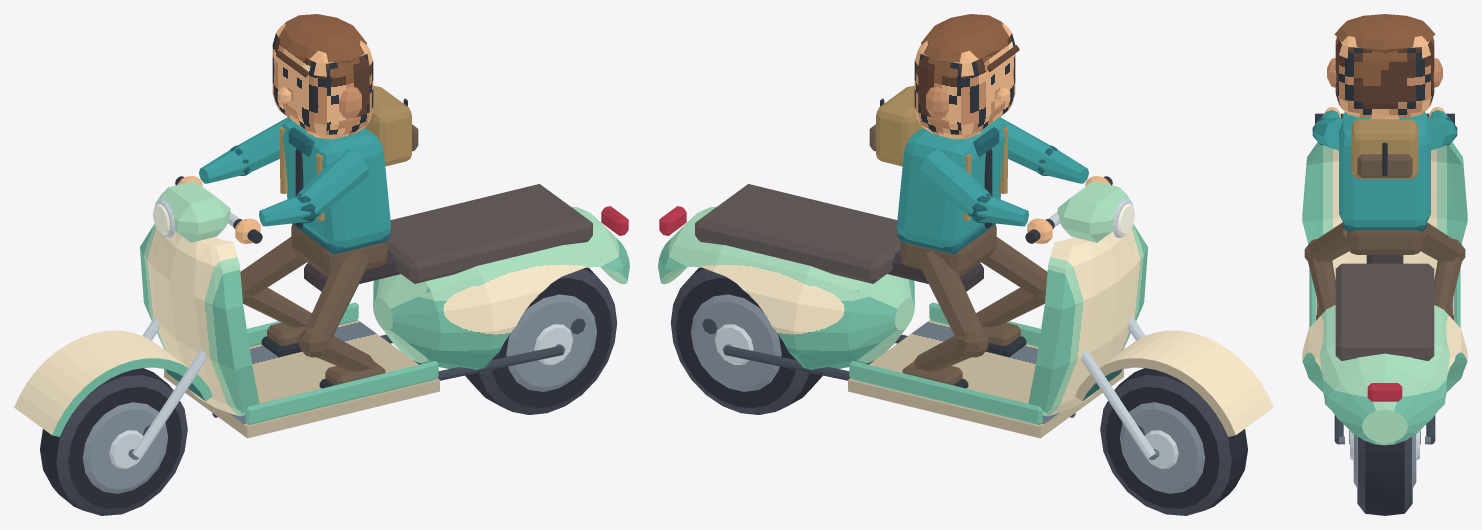
3 renders of one model, left to right at view 1: azimuth 30°, elevation 25°; view 2: azimuth 150°, elevation 25°; view 3: azimuth 270°, elevation 25°, orthographic. The views are drawn at different scales.
Parts seen in each view (by area): view 1: Body_static, RiderExplorer:Explorer_static_seated, Wheel_F_tire_hub, Wheel_R_tire_hub; view 2: Body_static, RiderExplorer:Explorer_static_seated, Wheel_F_tire_hub, Wheel_R_tire_hub; view 3: Body_static, RiderExplorer:Explorer_static_seated, Wheel_R_tire_hub.
Boxes of the visible parts, x1,y1,x2,y2 form: Body_static: [14, 176, 629, 460]; RiderExplorer:Explorer_static_seated: [177, 14, 418, 388]; Wheel_F_tire_hub: [40, 368, 187, 515]; Wheel_R_tire_hub: [465, 267, 617, 414]; Body_static: [658, 176, 1273, 460]; RiderExplorer:Explorer_static_seated: [869, 14, 1110, 388]; Wheel_F_tire_hub: [1100, 368, 1247, 515]; Wheel_R_tire_hub: [670, 267, 822, 414]; Body_static: [1302, 113, 1467, 445]; RiderExplorer:Explorer_static_seated: [1304, 14, 1465, 319]; Wheel_R_tire_hub: [1349, 430, 1420, 515].
Bounding box in the file's own units: 46.78 × 32.96 × 12.52.
2 materials, 2 textured.
